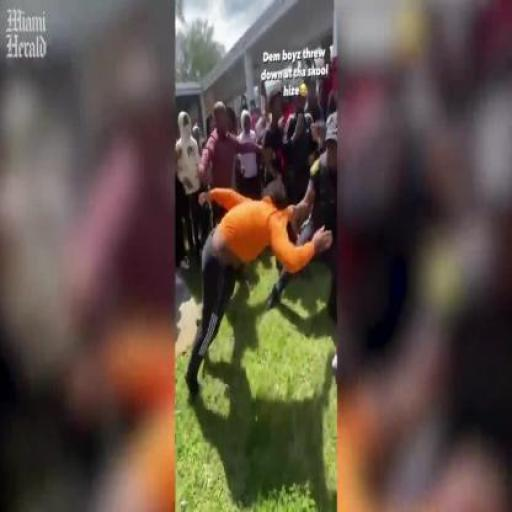Fighting: (164, 97, 339, 394)
